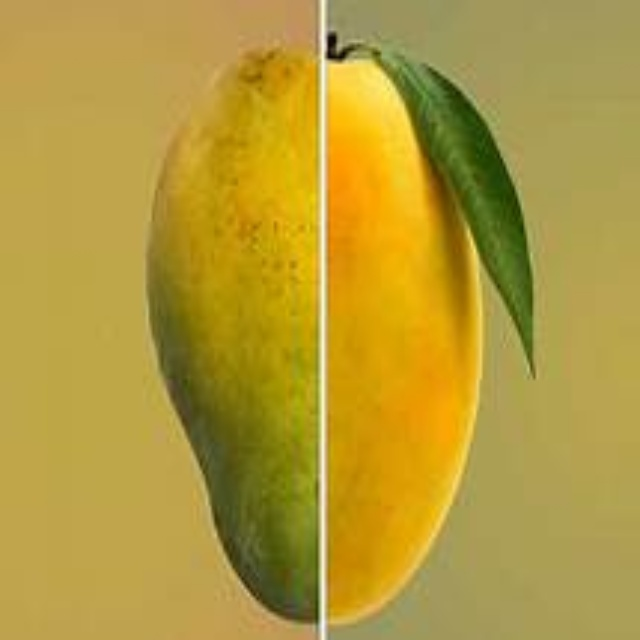mango: (154, 45, 487, 624)
